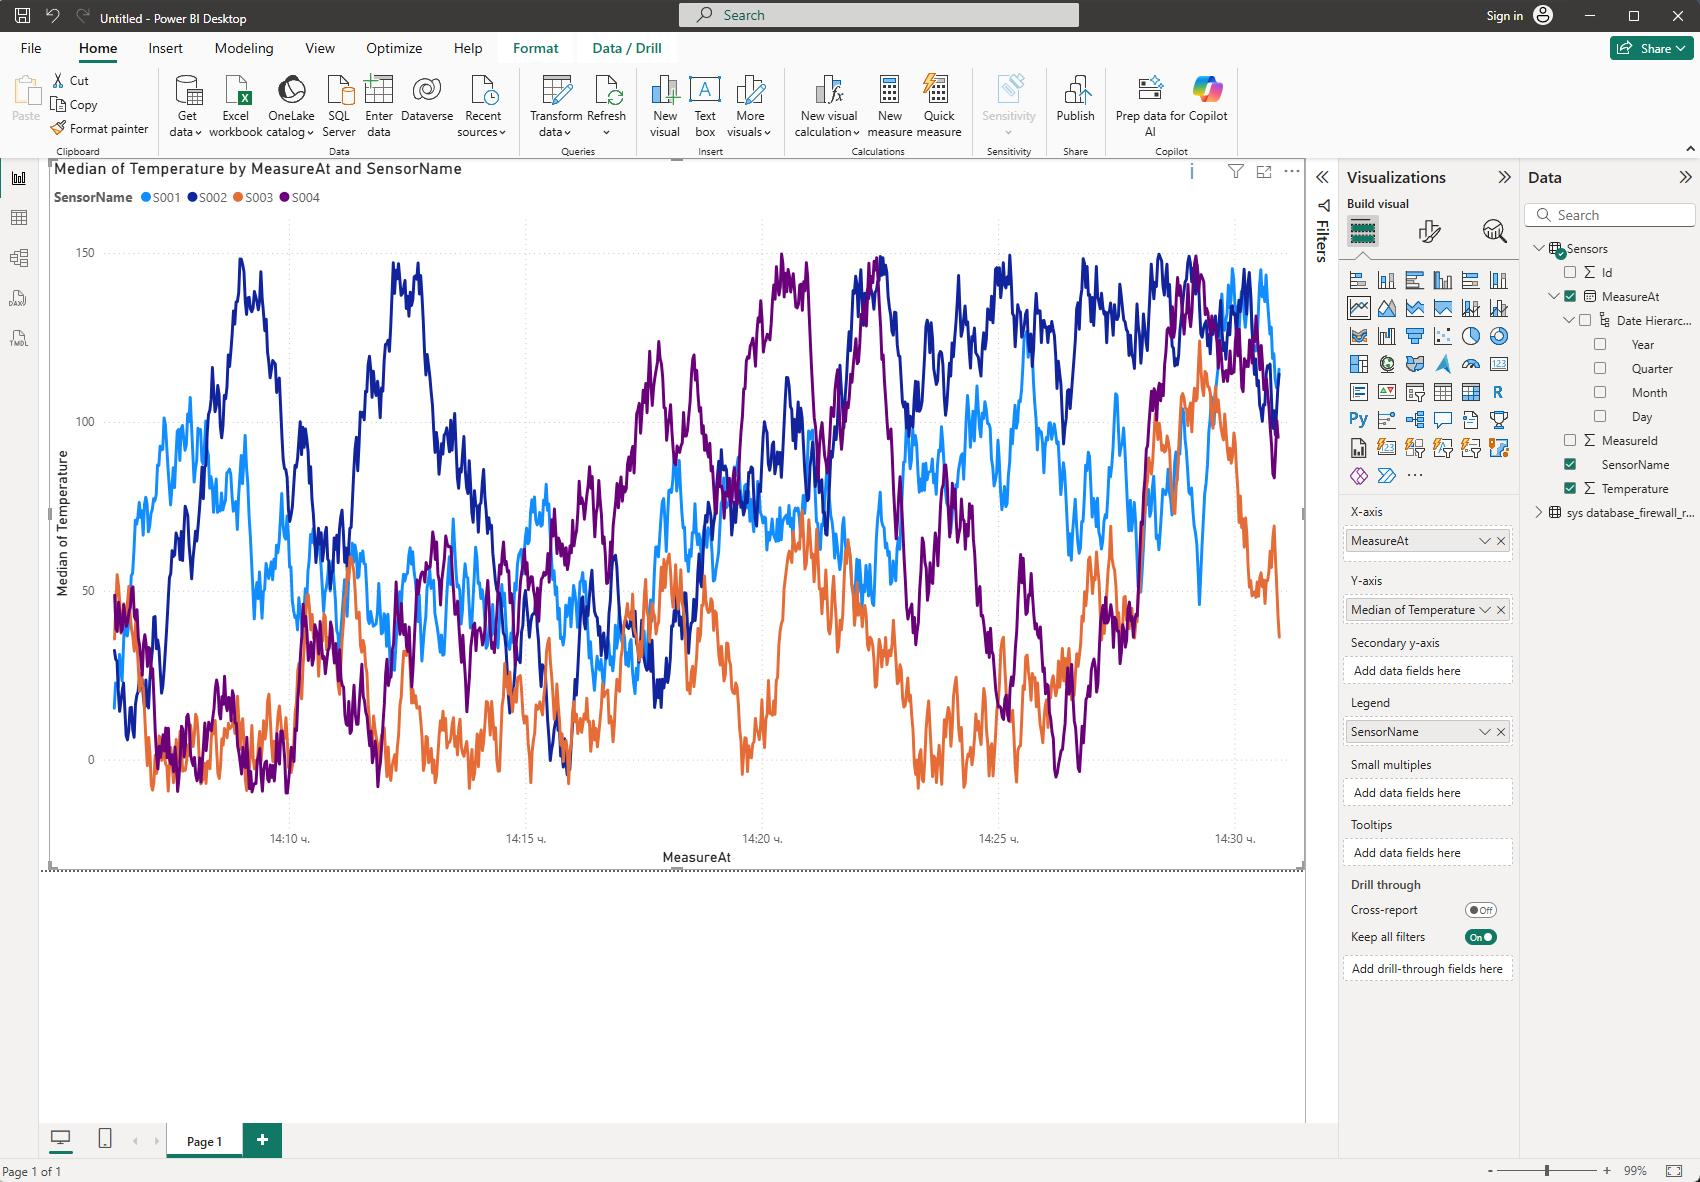

This screenshot's page, from the dashboard's own definition file:
{"tool":"powerbi","page":{"name":"Page 1","canvas":[1280,720],"ordinal":0},"visuals":[{"type":"lineChart","fields":{"Series":["Sensors.SensorName"],"Category":["Sensors.MeasureAt"],"Y":["Median(Sensors.Temperature)"]},"box":[10.1,0,1269.9,719.9],"z":0}]}

Visuals, with their boxes on the page's 1280x720 design canvas (x1, y1, x2, y2). These are canvas units, not pixel positions in the 1700x1182 screenshot, which may show the page scaled, cropped or inside an application window:
lineChart - Sensors.SensorName x Sensors.MeasureAt: [10,0,1280,720]
